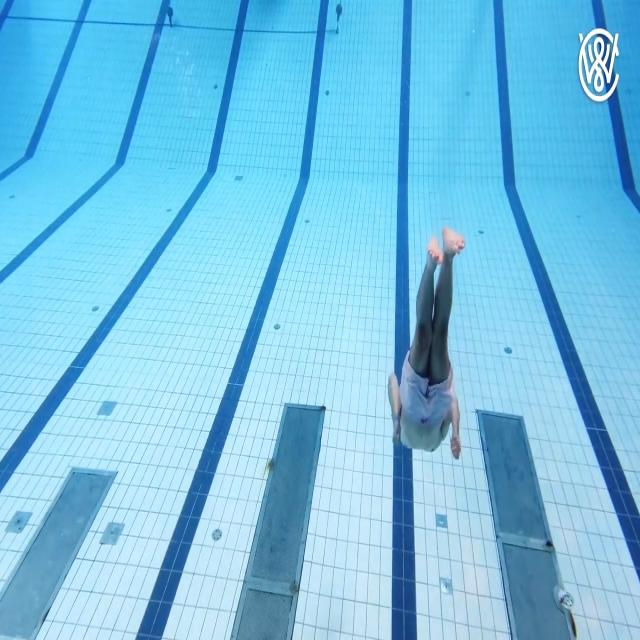Swimming: (388, 224, 467, 460)
